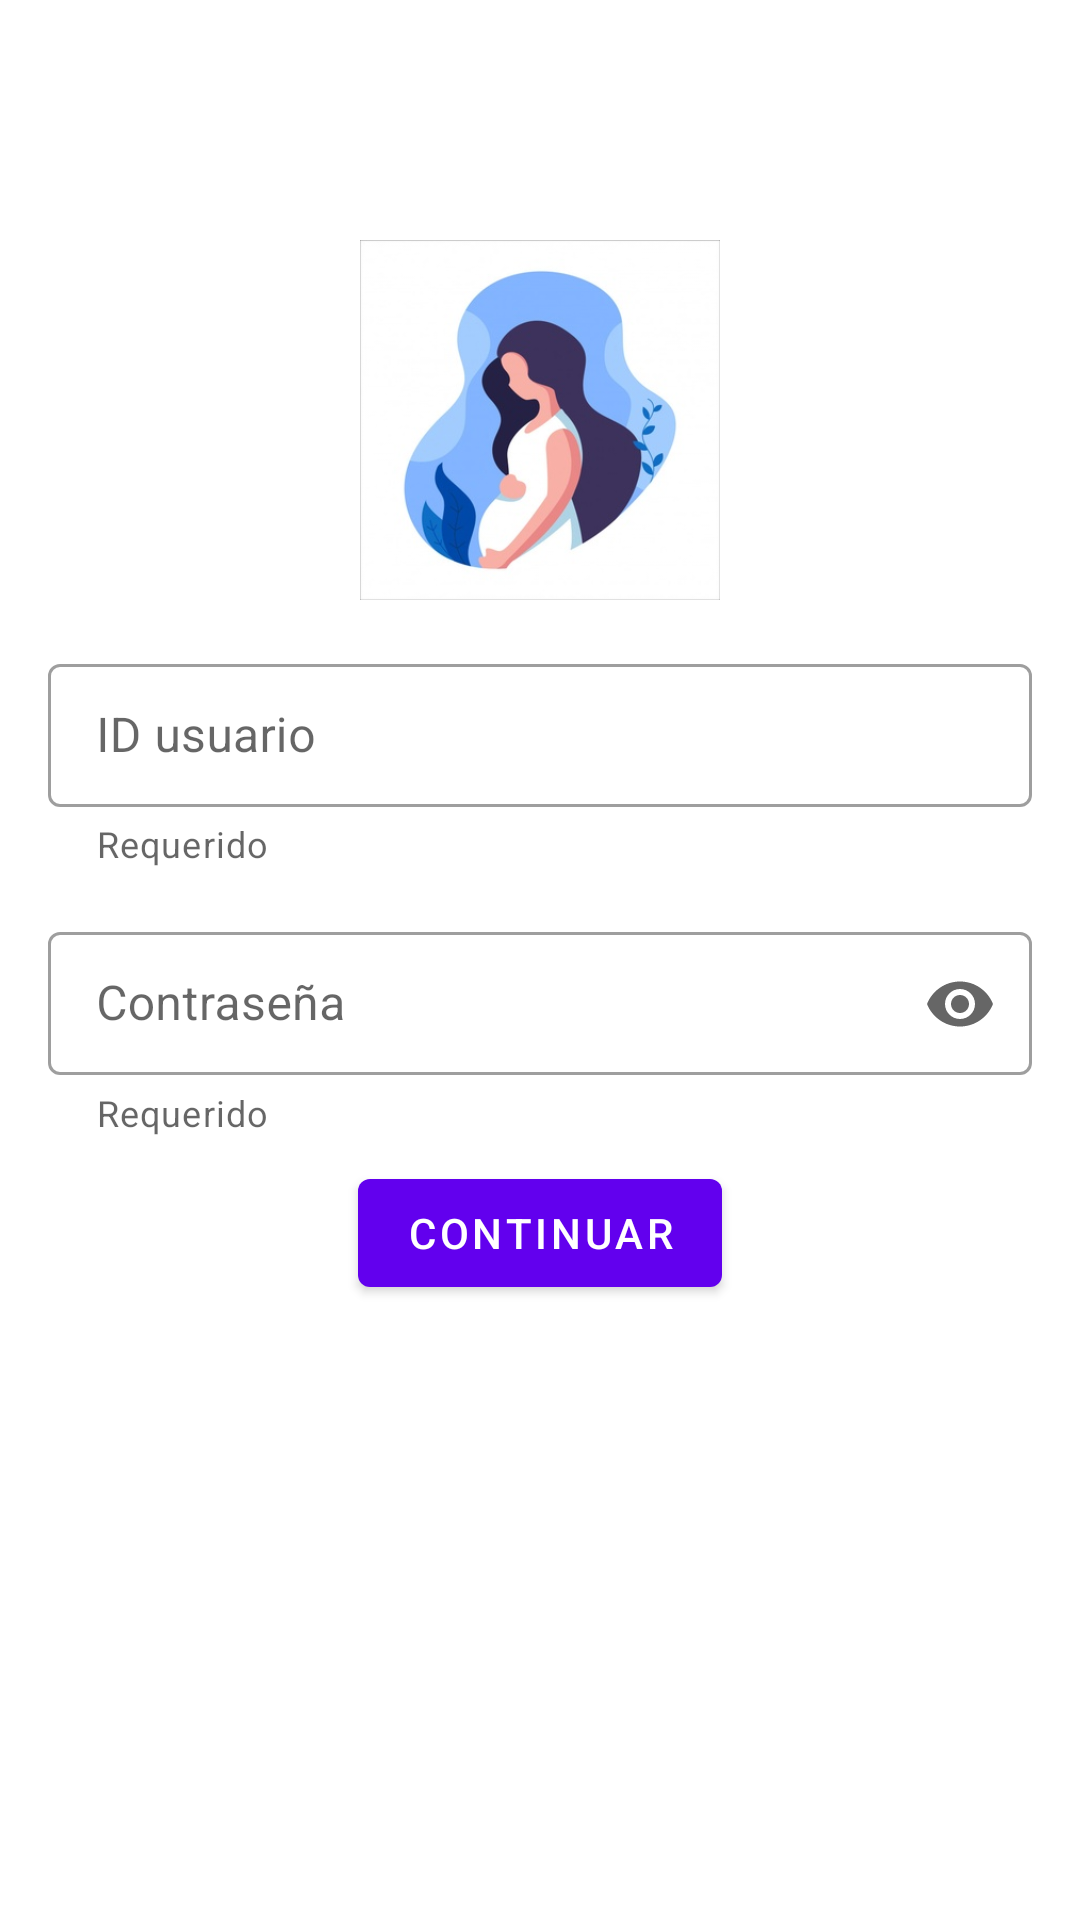

Point at icon controls on the screen. Image size 1080 × 1920, points as (x=x, y=y).
gestantev: (x=540, y=420)
